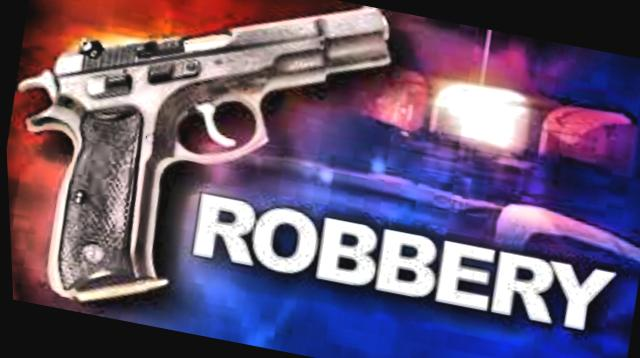pistol: (0, 0, 403, 348)
